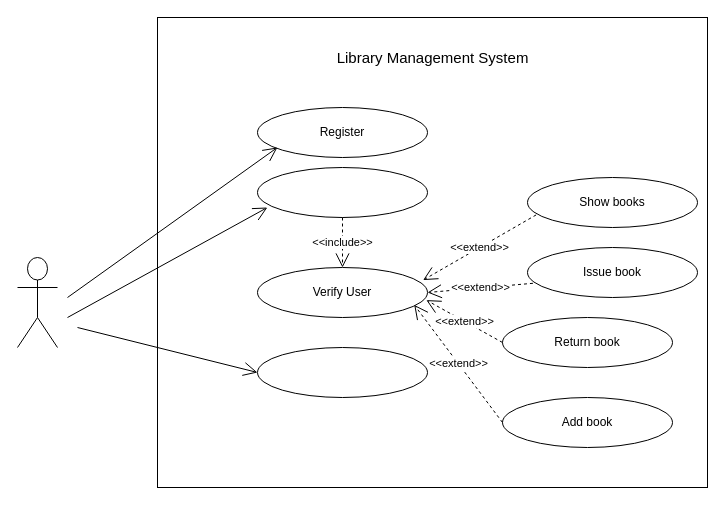
Some shapes in this 725 by 505 pixel diagram are drawn without their labels. The box of each missing label's shape, as (x1, y1, x2, y2) in pixels:
Login: (256, 166, 428, 218)
Logout: (256, 346, 428, 398)
User: (16, 256, 58, 348)
